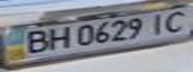0: (72, 21, 96, 47)
2: (109, 18, 130, 43)
6: (93, 19, 112, 45)
9: (124, 15, 148, 39)
B: (15, 27, 54, 55)
C: (157, 7, 193, 34)
H: (42, 25, 72, 52)
I: (145, 10, 172, 36)
